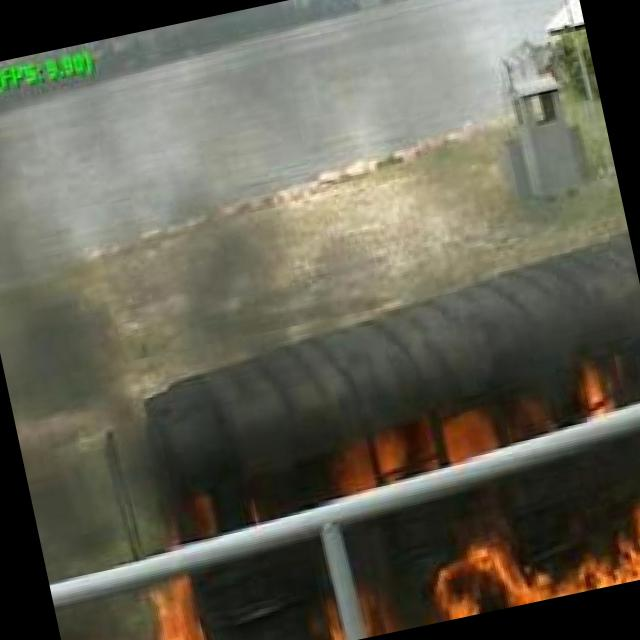Fire: (423, 486, 640, 621), (326, 401, 530, 494), (55, 574, 213, 640), (156, 498, 249, 554), (318, 588, 393, 640)
Smoke: (0, 0, 564, 522)
